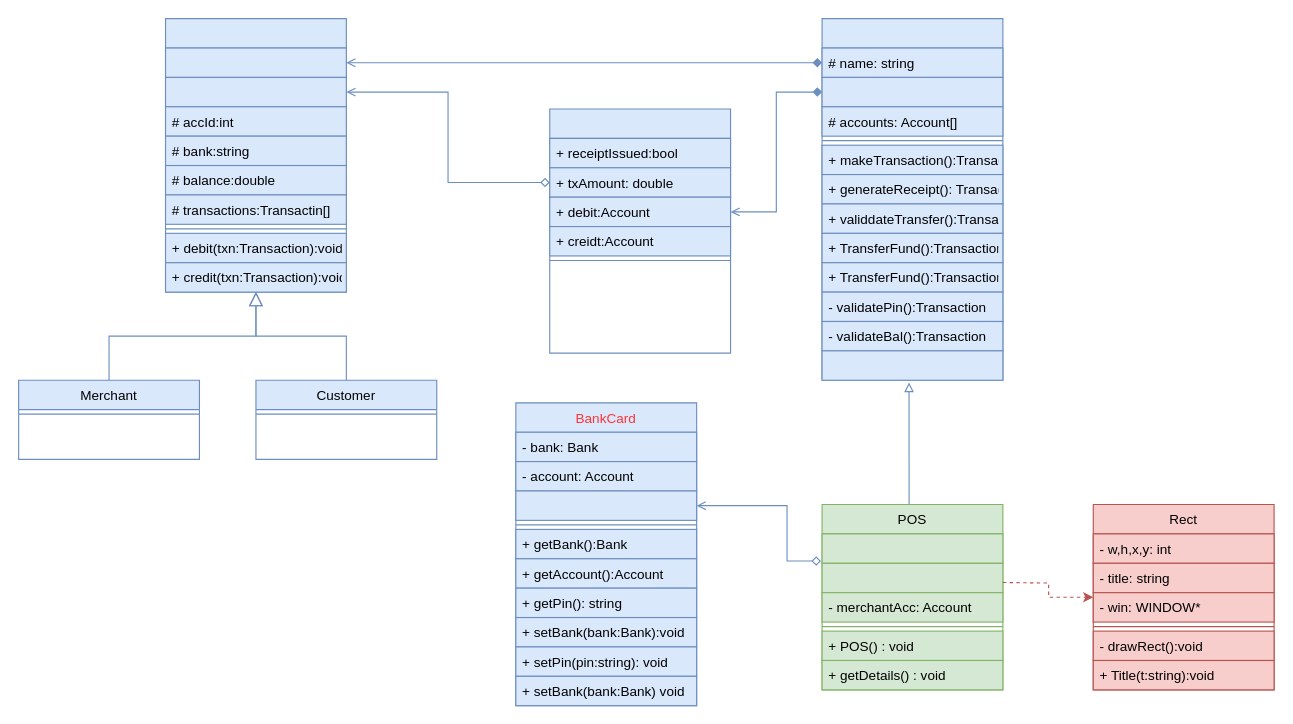
The diagram is 1293 pixels wide and 724 high, and some of its shapes have lost their labels. The box of each missing label's shape, as (x1, y1, x2, y2) in pixels:
# accName:string: (164, 76, 346, 107)
# pin:string: (164, 47, 346, 77)
# pos: Transaction: (821, 76, 1003, 107)
- amount: double: (821, 533, 1003, 563)
- cardDetails: BankCard: (821, 562, 1003, 593)
- pin: string: (515, 490, 697, 520)
- validateLimit():Transaction: (821, 350, 1003, 380)
Account: (164, 18, 346, 292)
Bank: (821, 18, 1003, 380)
Transaction: (549, 108, 731, 353)
